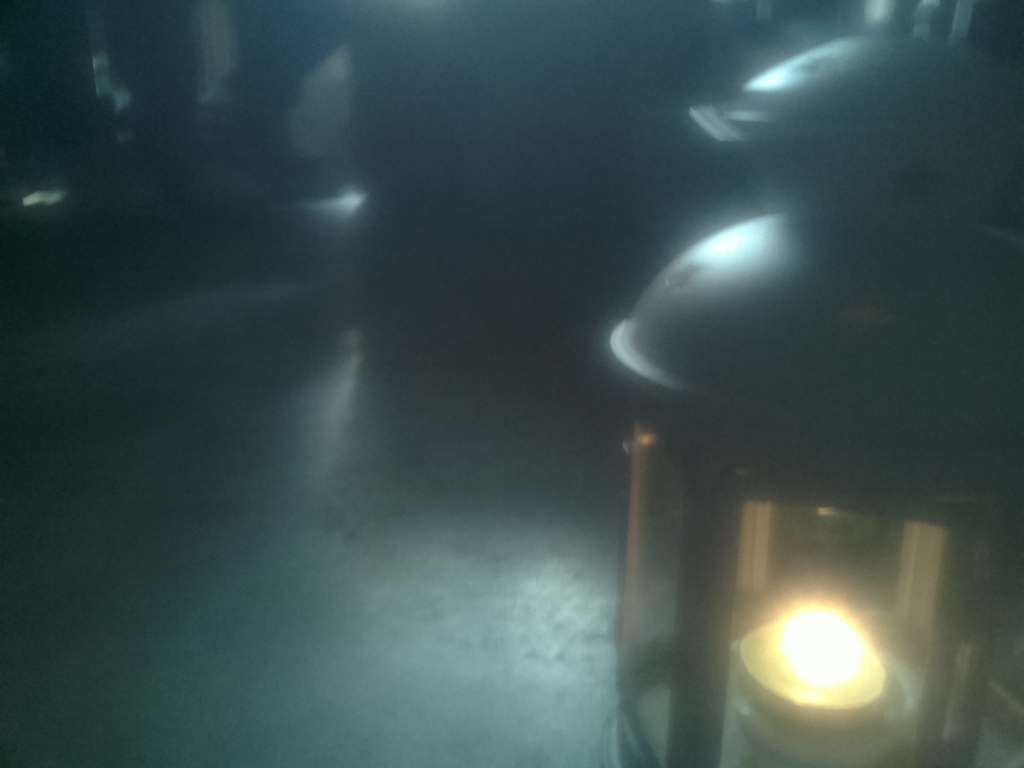fire: (705, 557, 897, 738)
